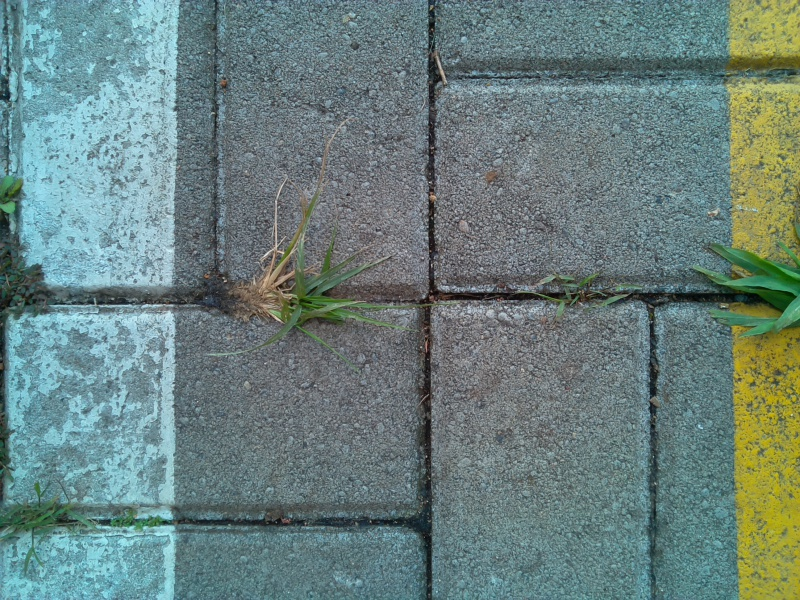Weed: (223, 203, 383, 361), (2, 227, 57, 321), (4, 491, 86, 546), (539, 270, 631, 316), (102, 499, 178, 540), (1, 168, 31, 213)
